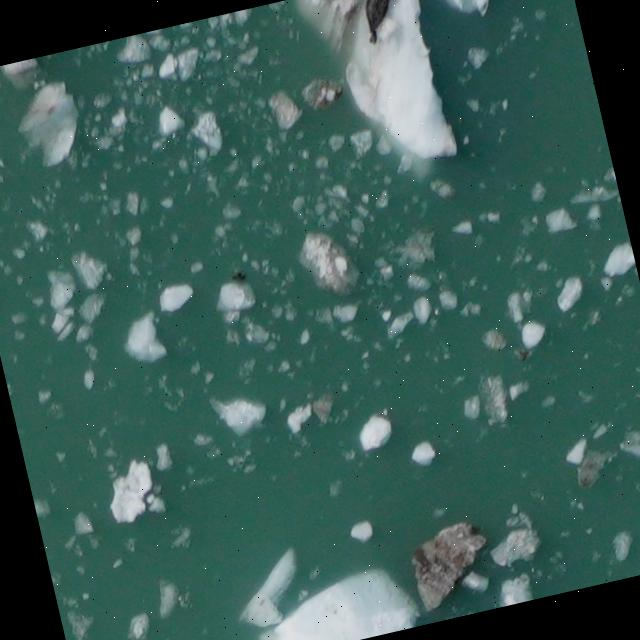seal: (353, 0, 416, 50)
